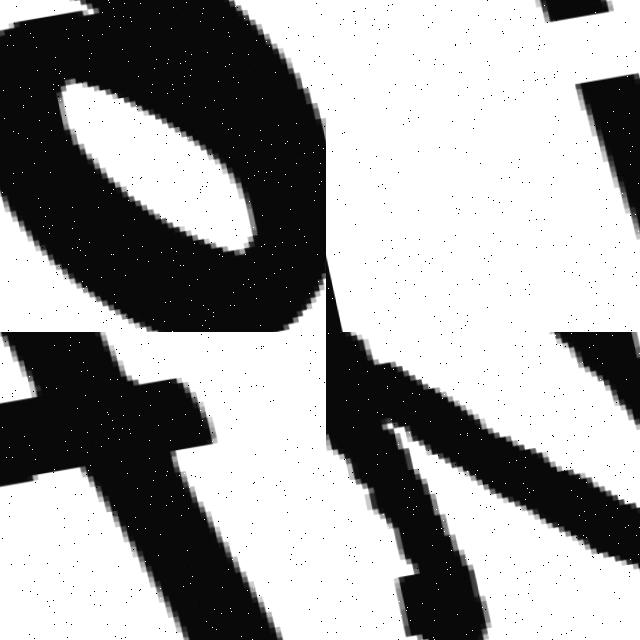6: (0, 0, 326, 332)
A: (326, 332, 640, 640)
I: (505, 0, 640, 332)
T: (0, 332, 321, 640)
